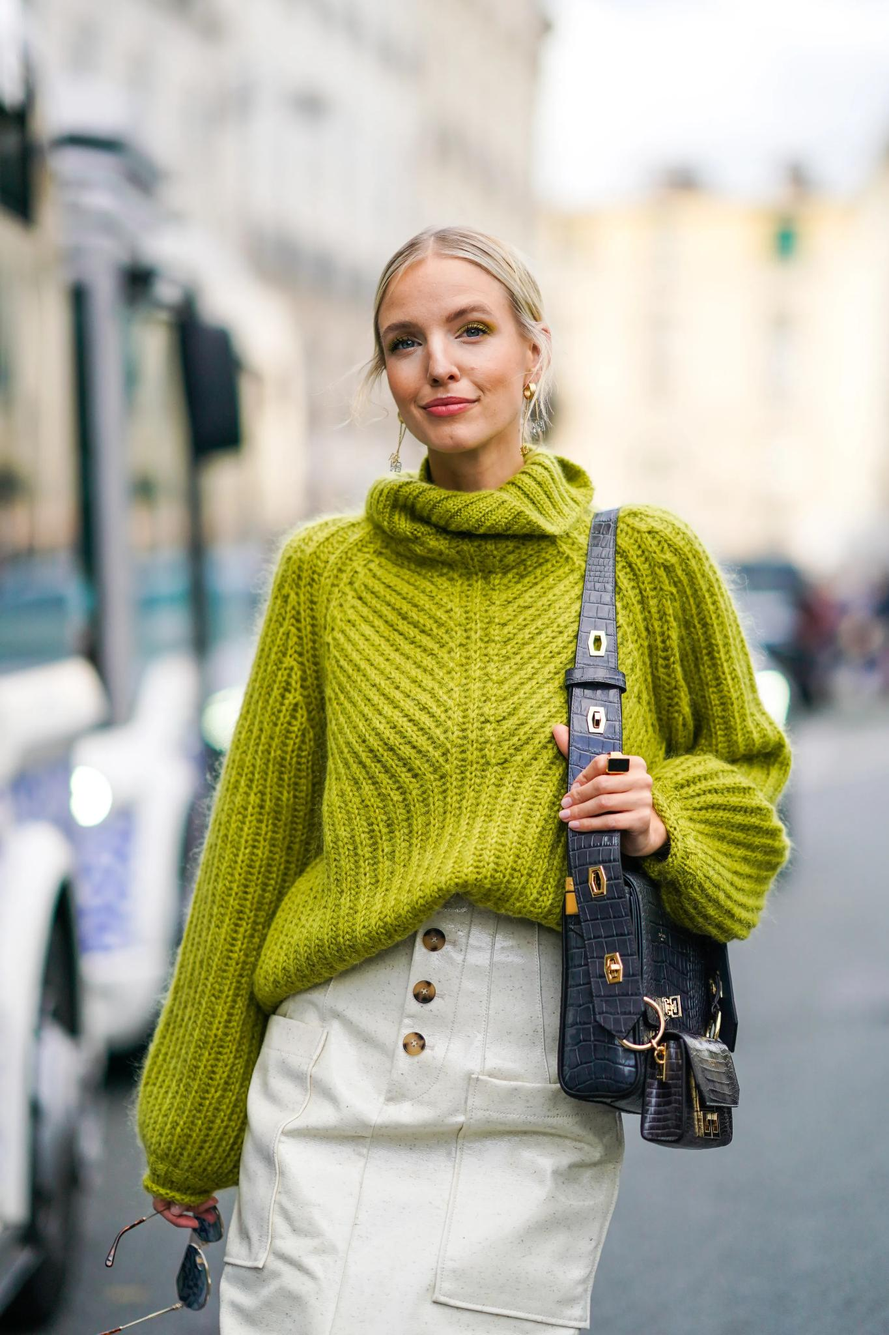skirt: (213, 908, 635, 1335)
sweater: (131, 440, 798, 1206)
